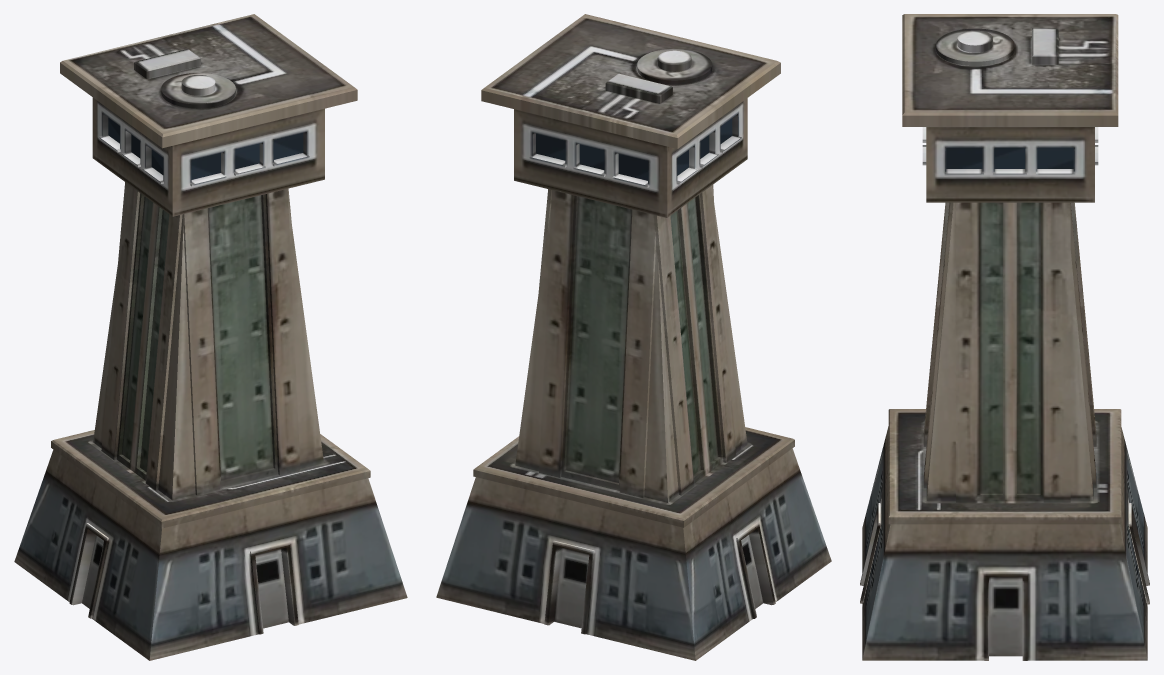
File: lookouttower_cad.glb
The picture shows the model from 3 angles, left to right: view 1: azimuth 30°, elevation 25°; view 2: azimuth 150°, elevation 25°; view 3: azimuth 270°, elevation 25°; orthographic projection. The views are drawn at different scales.
Visible parts, largest first — view 1: LookoutTower; view 2: LookoutTower; view 3: LookoutTower.
Boxes of the visible parts, <box> form: LookoutTower: <box>14,14,407,660</box>; LookoutTower: <box>436,14,831,660</box>; LookoutTower: <box>860,14,1149,660</box>.
Size of the model in its own units: 8.1 by 15.23 by 7.37.
Materials: 1 (1 with a texture image).
